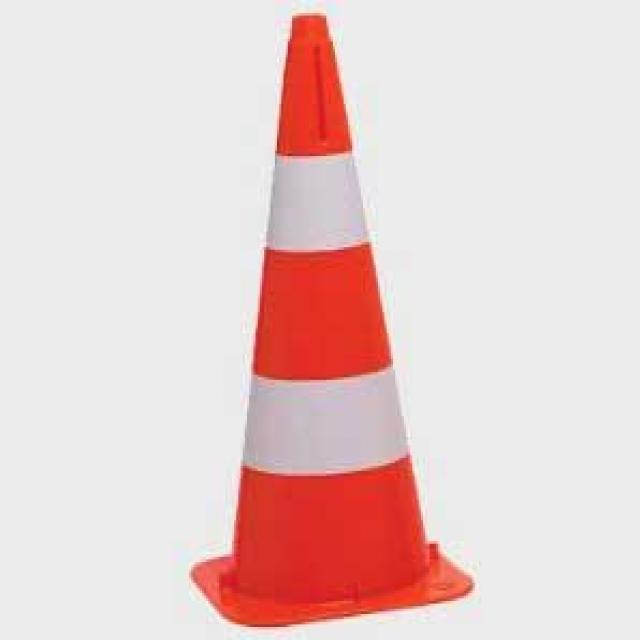traffic cone: (189, 12, 474, 628)
